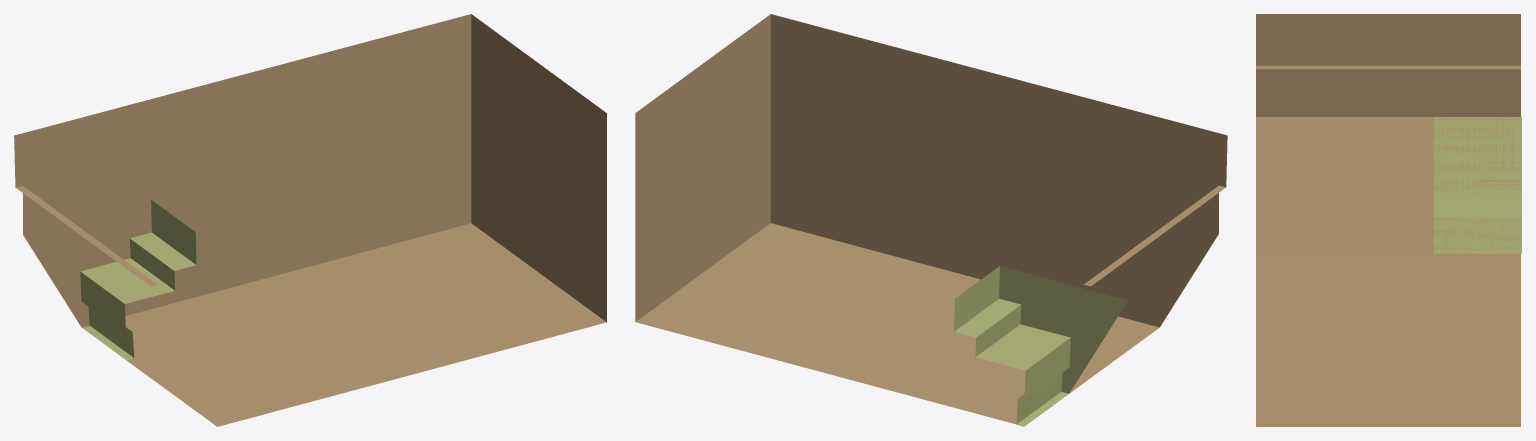
3 renders of one model, left to right at view 1: azimuth 30°, elevation 25°; view 2: azimuth 150°, elevation 25°; view 3: azimuth 270°, elevation 25°, orthographic. The views are drawn at different scales.
Parts seen in each view (by area): view 1: 0_0_1_1_3_2_2; view 2: 0_0_1_1_3_2_2; view 3: 0_0_1_1_3_2_2.
Part boxes in pixels (<box>): 0_0_1_1_3_2_2: <box>14,14,606,426</box>; 0_0_1_1_3_2_2: <box>635,14,1227,426</box>; 0_0_1_1_3_2_2: <box>1256,14,1521,426</box>.
Bounding box in the file's own units: 52.6 × 24.05 × 27.1.
